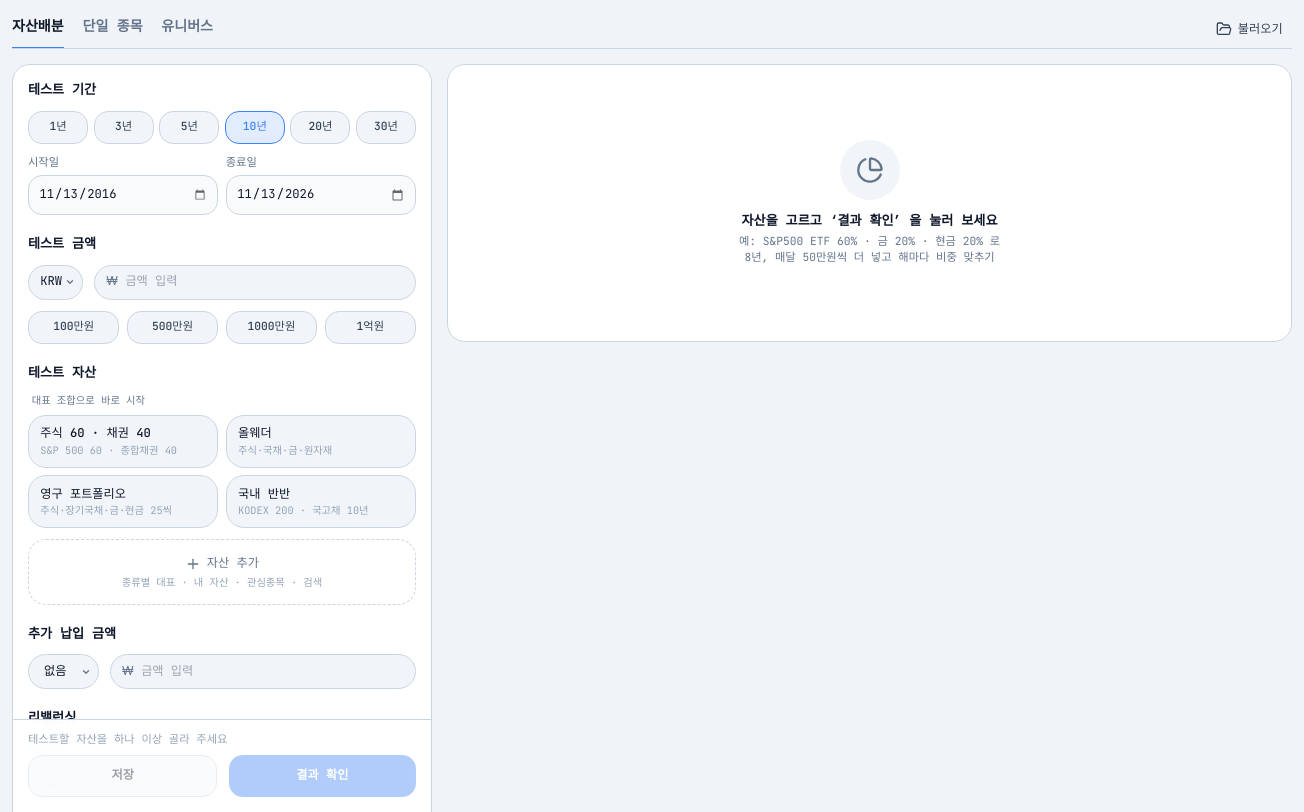
단일 종목 설정 — 자산배분과 같은 틀 › 로그인 전에 저장을 누르면 왜 안 되는지 말한다 — 창은 안 뜬다
Click the tab "단일 종목" at point(113, 30), box [82,12,143,49]
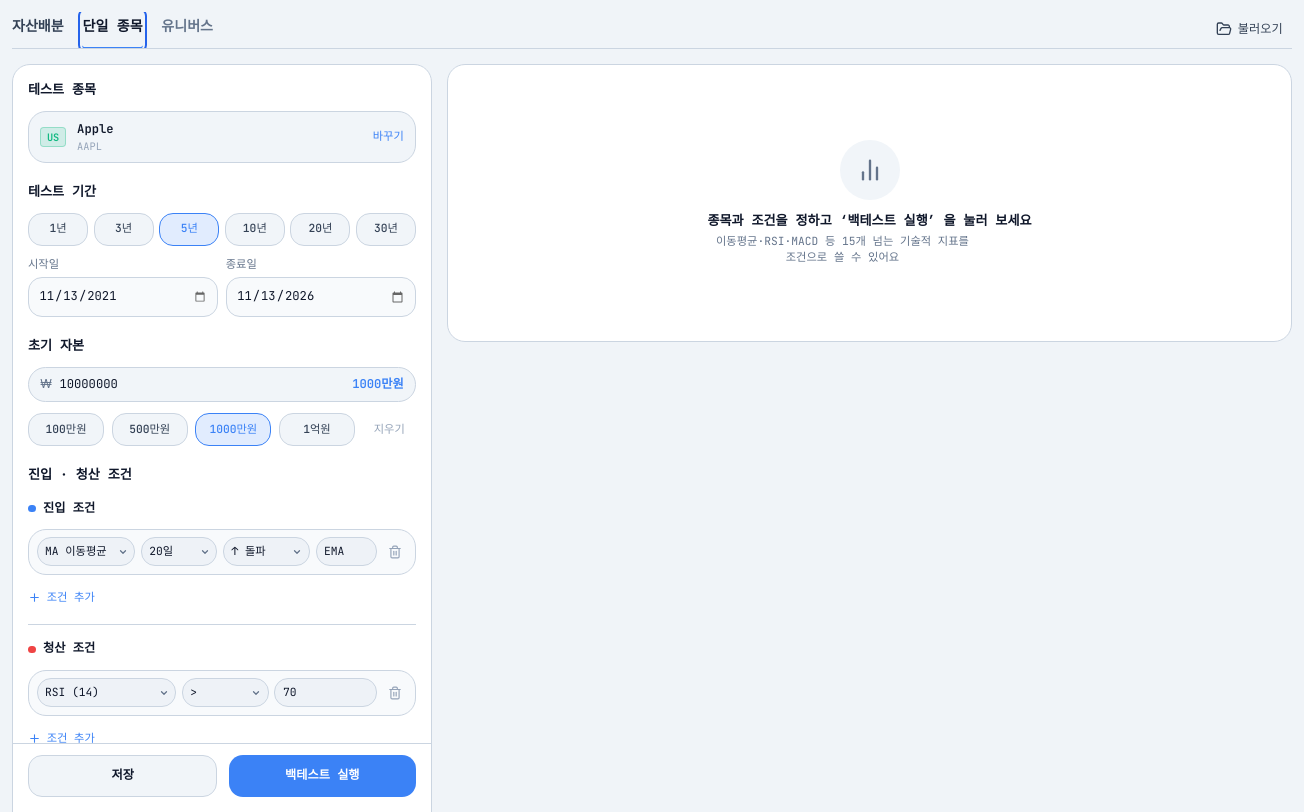
Click the button "저장" at point(123, 776), box [28,755,217,797]
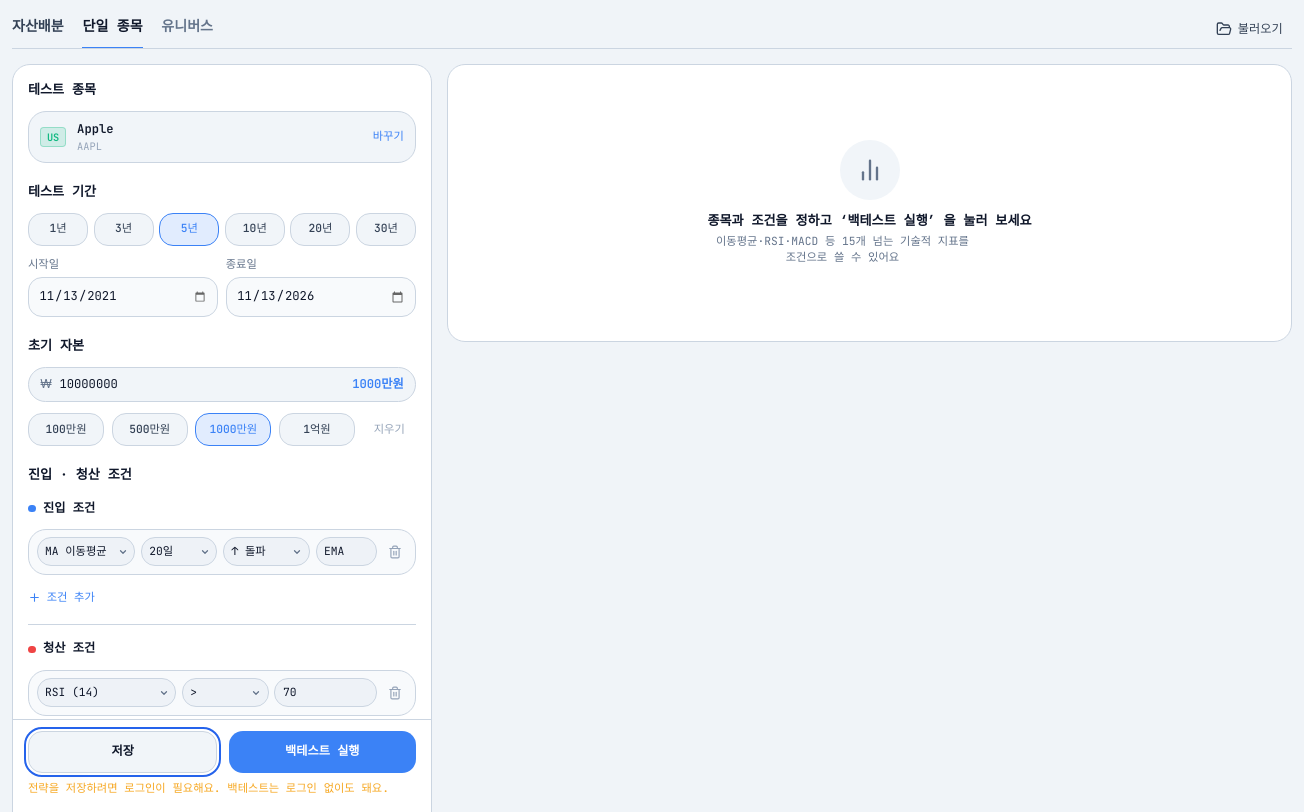
Now the text "전략을 저장하려면 로그인이 필요해요. 백테스트는 로그인 없이도 돼요." is shown, box [28,781,416,797]
